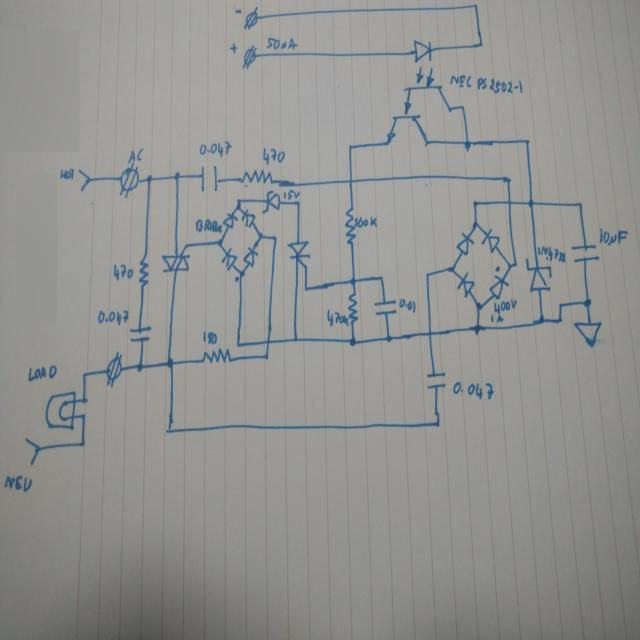capacitor: (571, 242, 600, 264), (200, 165, 220, 192), (374, 298, 397, 317), (426, 371, 446, 392), (129, 325, 151, 343)
crossover: (348, 177, 356, 186), (506, 198, 513, 206), (266, 338, 272, 345), (427, 330, 433, 337)
diode: (526, 259, 552, 291), (456, 271, 474, 297), (489, 275, 508, 299), (262, 190, 280, 213), (456, 232, 474, 255), (482, 228, 499, 252), (221, 248, 237, 270), (243, 247, 257, 267), (242, 209, 256, 228), (222, 213, 238, 228)
ground: (574, 321, 602, 347)
junction: (473, 323, 482, 335), (463, 139, 472, 150), (584, 297, 592, 308), (349, 336, 356, 348), (216, 237, 224, 247), (503, 174, 511, 183), (238, 269, 246, 278), (167, 358, 174, 368), (538, 314, 545, 324), (271, 234, 279, 242), (385, 334, 392, 343), (137, 362, 143, 372), (350, 276, 356, 286), (528, 198, 534, 208), (146, 173, 152, 183), (174, 171, 180, 181), (476, 302, 483, 310), (477, 40, 484, 48), (472, 221, 478, 230), (435, 419, 441, 428), (79, 439, 85, 447), (166, 425, 172, 433), (264, 352, 270, 360), (235, 341, 241, 349), (292, 335, 298, 343), (472, 199, 478, 207), (257, 232, 263, 240), (450, 264, 455, 273), (81, 397, 88, 403), (379, 274, 385, 281), (557, 316, 563, 323), (472, 2, 478, 9), (235, 204, 241, 211), (348, 143, 353, 151), (524, 138, 530, 144), (81, 411, 86, 418), (507, 262, 512, 269), (578, 200, 583, 207), (235, 198, 242, 203), (82, 371, 87, 377), (513, 261, 518, 267), (558, 302, 563, 308), (296, 200, 301, 206), (304, 284, 308, 291), (426, 271, 430, 278), (460, 104, 465, 109)
resistor: (240, 169, 272, 185), (202, 347, 232, 364), (344, 207, 356, 245), (138, 253, 148, 286), (348, 293, 358, 325)
terminal: (24, 437, 40, 465), (242, 45, 256, 68), (244, 7, 258, 29), (78, 169, 90, 191)
text: (449, 75, 523, 94), (452, 381, 494, 400), (199, 140, 232, 157), (599, 227, 627, 245), (28, 364, 56, 382), (98, 309, 128, 325), (537, 246, 566, 262), (4, 475, 32, 491), (195, 218, 222, 233), (263, 147, 285, 165), (266, 37, 298, 49), (327, 310, 349, 326), (494, 299, 516, 314), (113, 264, 133, 280), (354, 216, 377, 228), (128, 148, 143, 163), (399, 298, 415, 312), (283, 189, 301, 200), (203, 331, 217, 344), (60, 168, 74, 179), (491, 314, 504, 323)
thyristor: (287, 240, 311, 270)
transistor: (386, 114, 428, 146)
